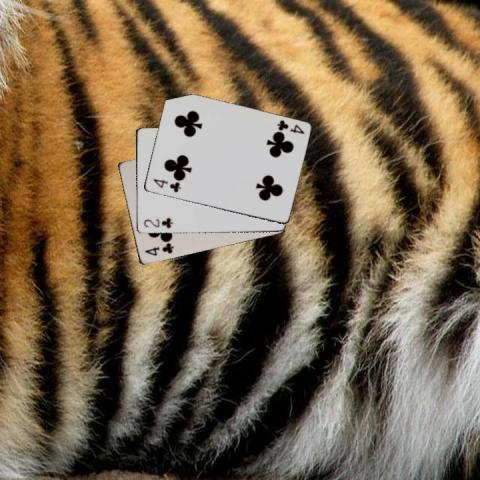2c: (141, 215, 174, 230)
4c: (150, 176, 182, 194), (274, 118, 305, 136), (142, 241, 176, 257)
